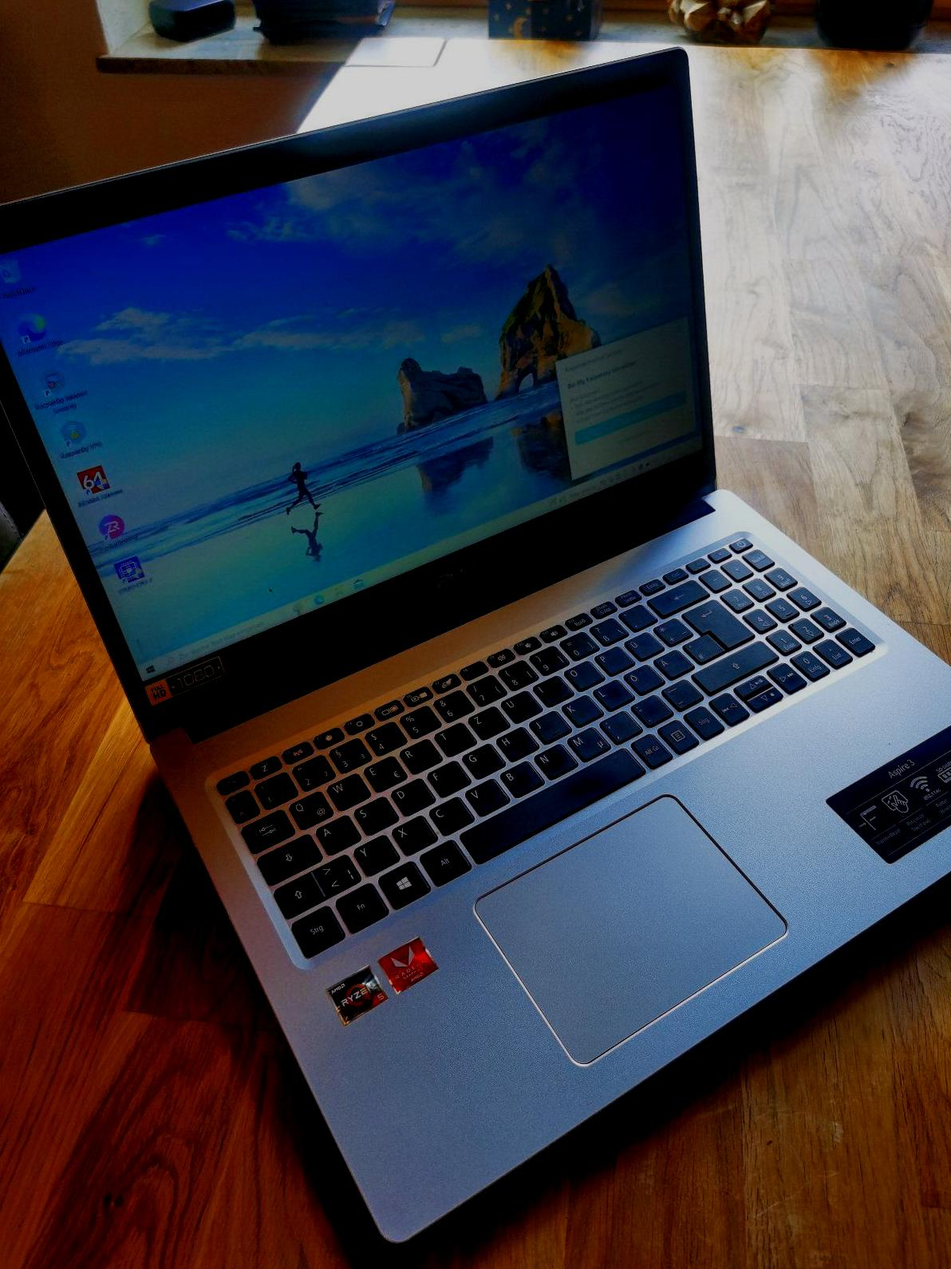0: (558, 629, 599, 656)
1: (254, 769, 296, 805)
2: (290, 753, 335, 787)
3: (328, 737, 371, 768)
4: (363, 718, 406, 752)
5: (397, 703, 440, 735)
6: (432, 687, 473, 718)
7: (467, 672, 507, 701)
8: (498, 656, 538, 686)
9: (529, 642, 569, 671)
a: (312, 812, 359, 851)
accent: (617, 601, 657, 628)
ae: (649, 646, 693, 675)
alt-left: (416, 836, 471, 881)
altgr-right: (628, 731, 672, 768)
b: (495, 758, 543, 794)
c: (424, 794, 473, 831)
caret: (224, 789, 257, 820)
comma: (598, 707, 641, 741)
d: (387, 775, 435, 812)
del: (645, 575, 708, 613)
e: (361, 753, 407, 789)
enter: (681, 595, 752, 650)
f: (424, 757, 469, 793)
g: (459, 740, 503, 775)
h: (493, 722, 539, 757)
hash: (681, 632, 723, 662)
i: (531, 672, 574, 703)
j: (527, 707, 570, 741)
k: (558, 691, 602, 723)
keyboard: (186, 512, 911, 978)
l: (590, 676, 633, 708)
less: (310, 852, 360, 892)
m: (562, 724, 609, 758)
minus: (660, 676, 701, 708)
n: (530, 741, 577, 777)
o: (562, 658, 605, 688)
oe: (619, 662, 663, 692)
p: (592, 643, 634, 672)
plus: (651, 615, 693, 642)
point: (629, 692, 673, 725)
q: (286, 789, 332, 825)
r: (396, 737, 441, 769)
s: (350, 793, 397, 831)
shift-left: (273, 871, 324, 915)
shift-lock: (256, 832, 322, 883)
shift-right: (691, 637, 777, 691)
space: (460, 744, 648, 865)
ss: (588, 615, 629, 642)
strg-left: (290, 903, 345, 954)
strg-right: (685, 706, 727, 739)
t: (431, 719, 476, 753)
tab: (239, 807, 294, 851)
u: (496, 687, 541, 719)
ue: (622, 629, 664, 658)
v: (460, 776, 508, 812)
w: (324, 770, 369, 806)
x: (387, 812, 436, 852)
y: (349, 832, 399, 873)
z: (464, 703, 508, 736)
